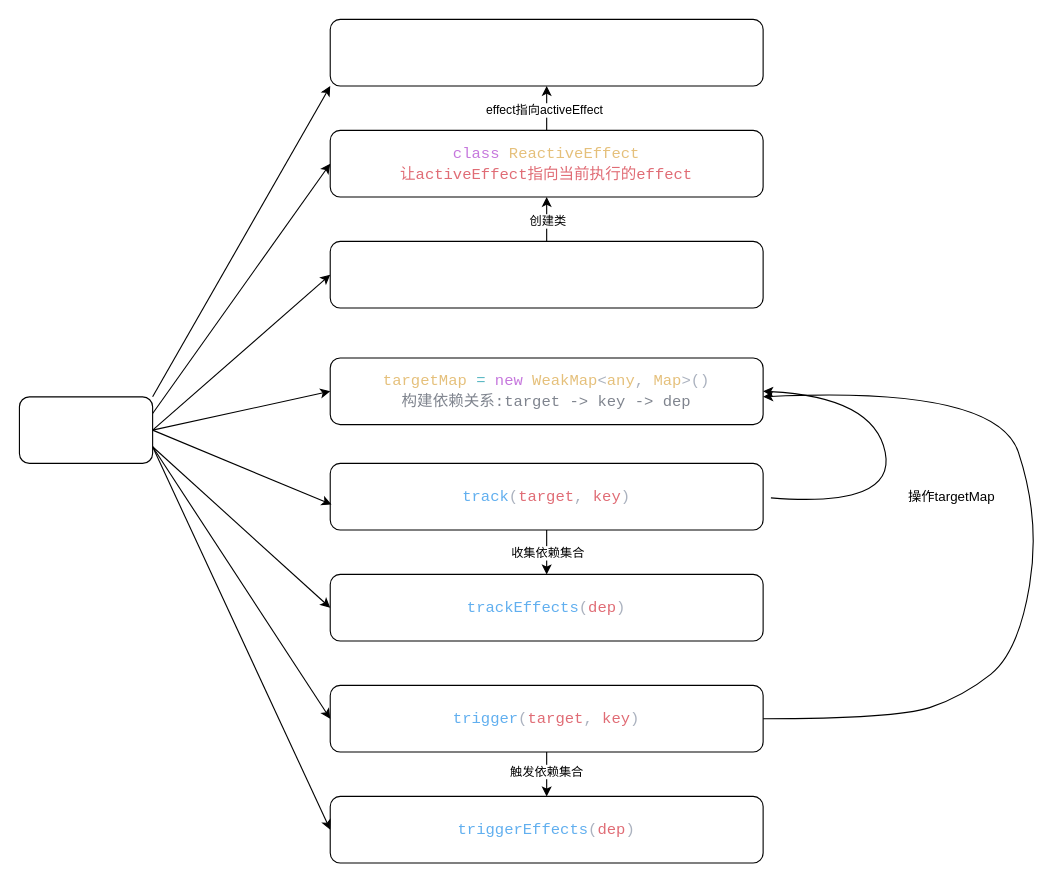
Some shapes in this 1053 by 882 pixel diagram are drawn without their labels. Each missing label, with the centre of its shape:
activeEffect : ReactiveEffect: the point at 546,52
effect(): the point at 546,274
effect.ts: the point at 85,429
